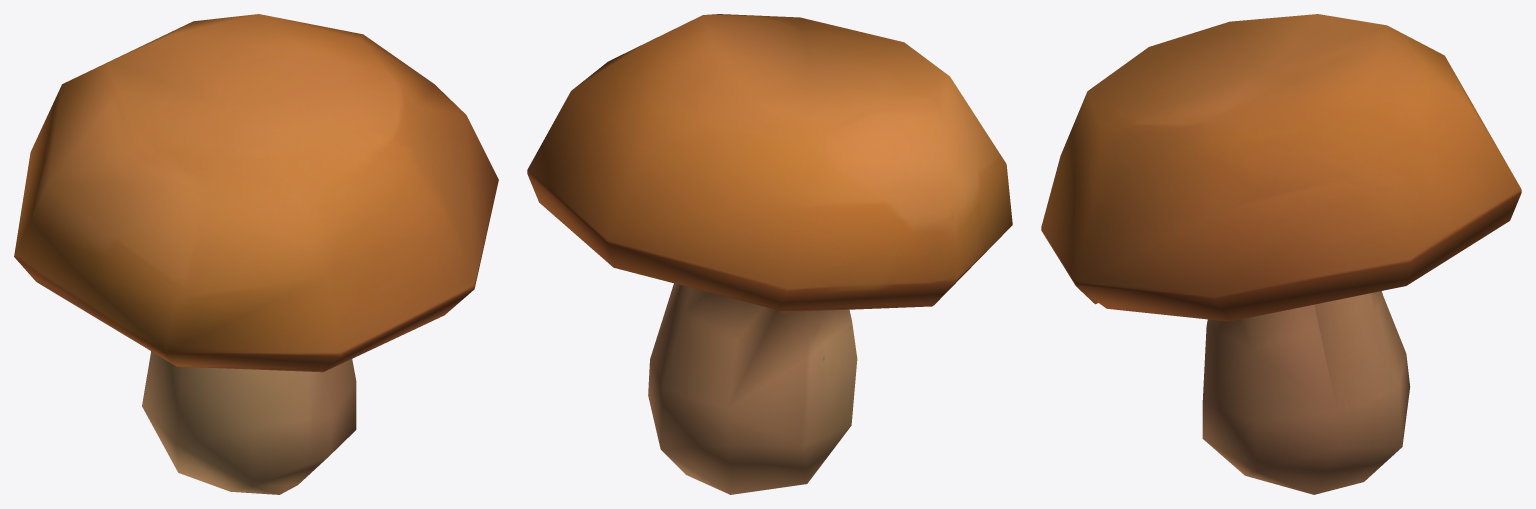
3 views of the same model, side by side, from view 1: azimuth 30°, elevation 25°; view 2: azimuth 150°, elevation 25°; view 3: azimuth 270°, elevation 25° (orthographic).
Parts seen in each view (by area): view 1: forest-mushroom-3; view 2: forest-mushroom-3; view 3: forest-mushroom-3.
Part boxes in pixels (x1,y1,x2,y2): forest-mushroom-3: (14, 14, 498, 494); forest-mushroom-3: (527, 14, 1012, 494); forest-mushroom-3: (1041, 14, 1521, 494).
Bounding box in the file's own units: 0.2466 × 0.2329 × 0.2446.
Materials: 1 (1 with a texture image).
